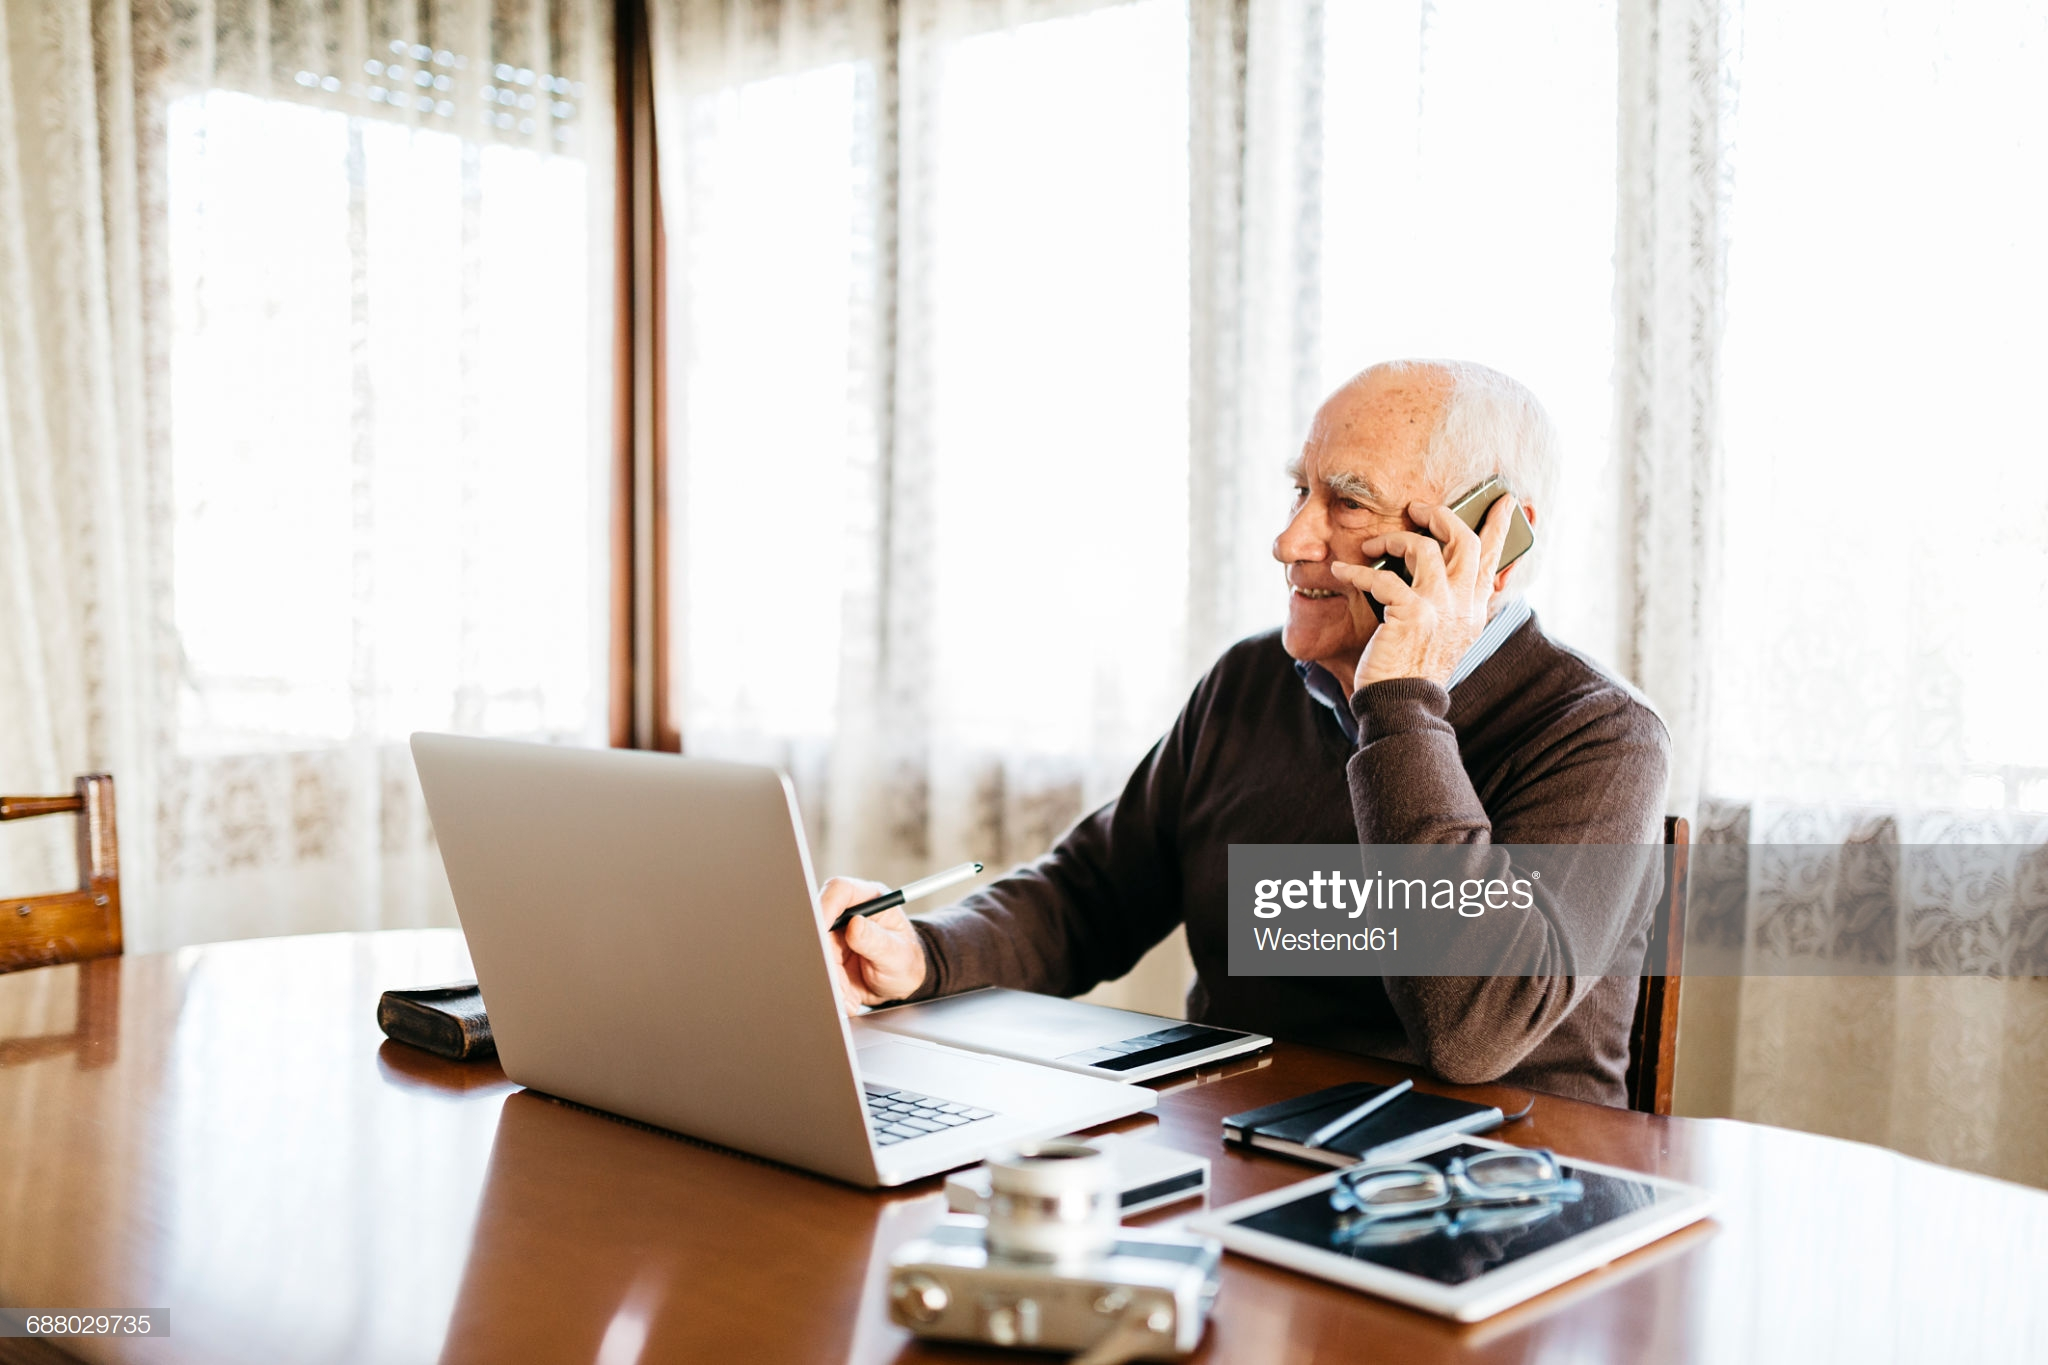phone: (1375, 474, 1552, 643)
talk: (1271, 460, 1568, 699)
